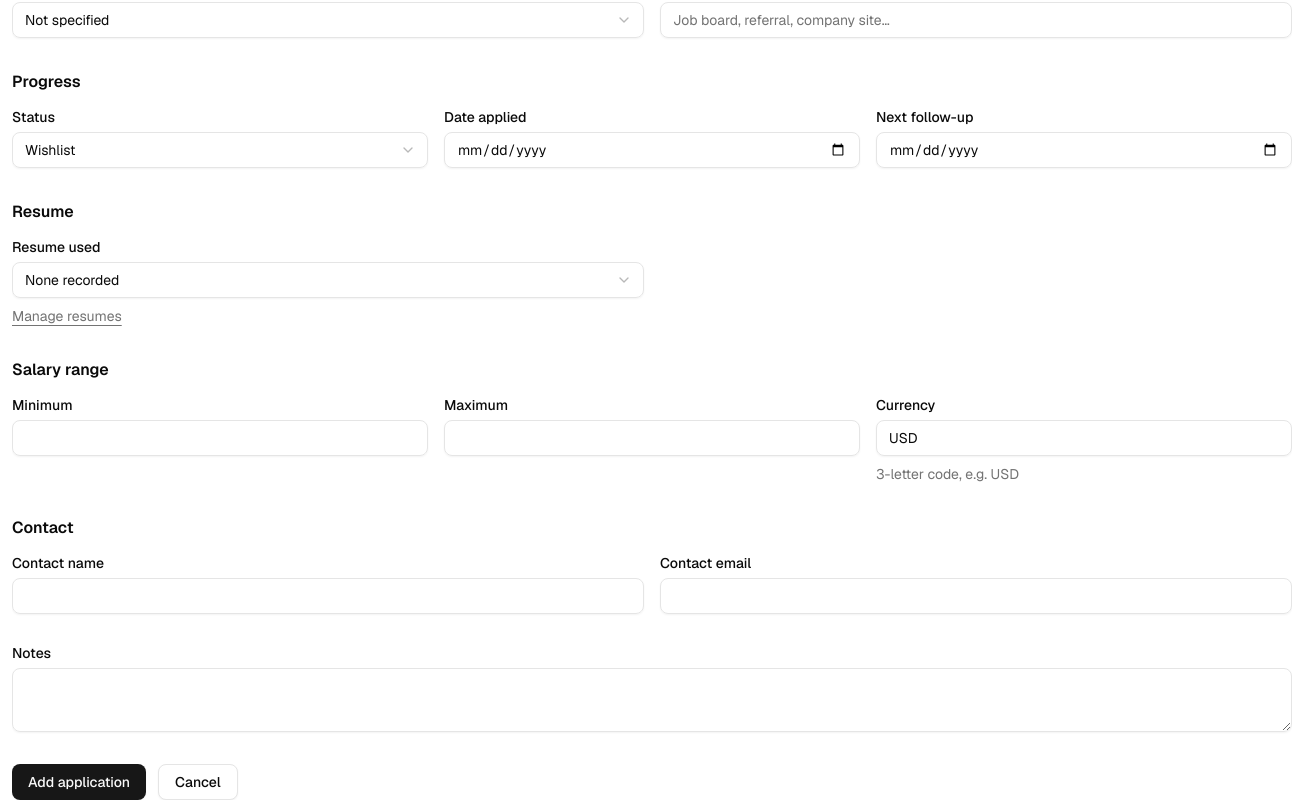
Test case: ApplicationForm › shows field errors and does not submit when required fields are empty
(page scrolled)
Click the button "Add application": (79, 782) [12,764,146,799]
(page scrolled)
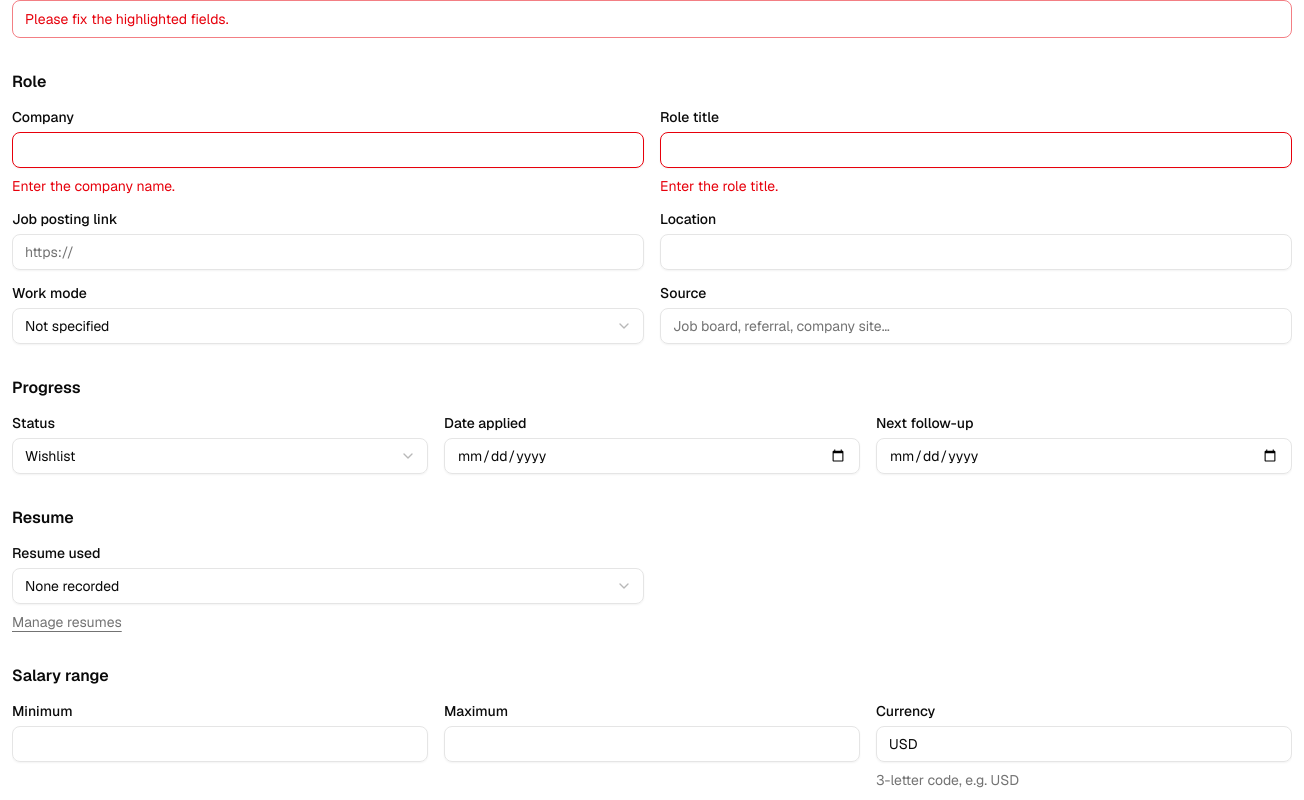
Result: the message reads "Please fix the highlighted fields." at [25,10,228,28]
